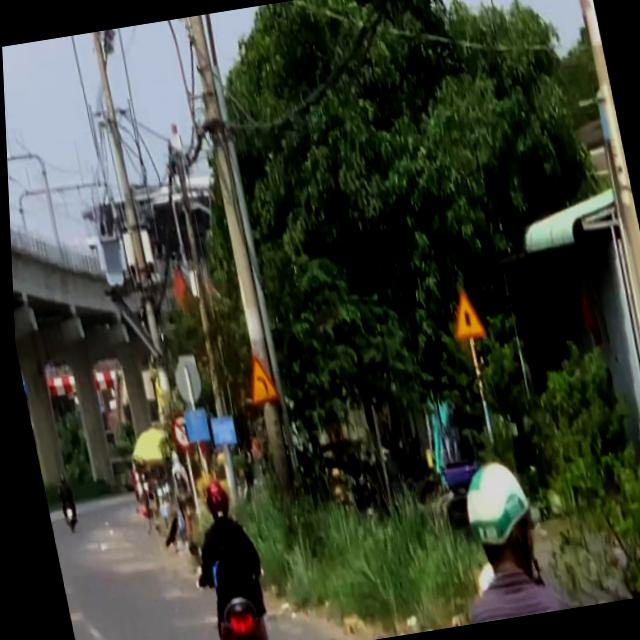Giao nhau voi duong khong uu tien ben phai: (441, 286, 486, 343)
cho ngoat nguy hiem vong ben trai: (238, 351, 280, 407)
